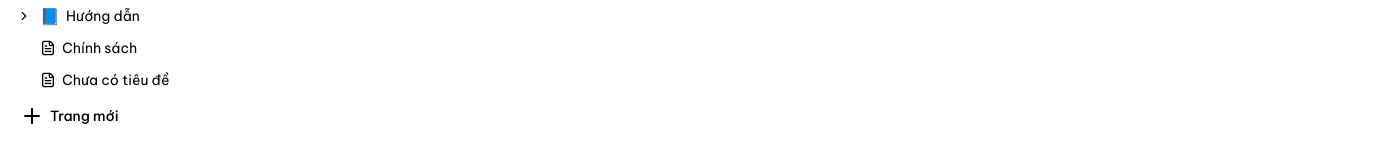
Scenario: PageTree › renames inline with F2 and cancels with Escape
Expected: the list is shown, [17,6,170,89]
Press F2
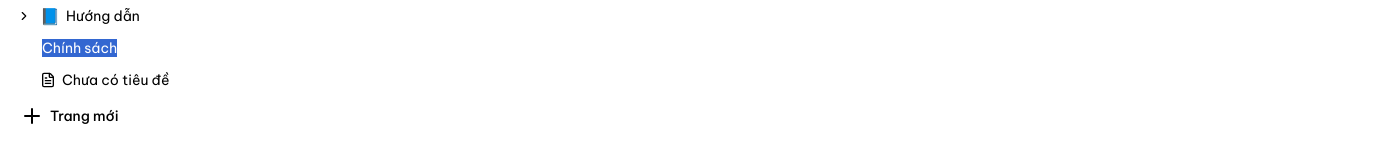
Replace the text in the field named "Tên trang" with "Quy định" at (705,48), box [36,34,1374,62]
Then press Enter
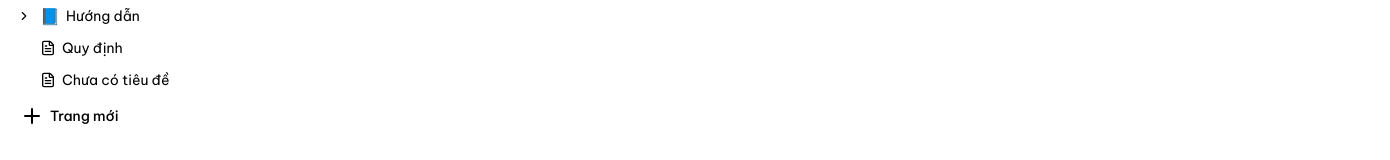
Now the list item "Quy định" has attribute href="/s/design/p/quy-dinh-p0000004", box [40,39,123,57]
Press F2
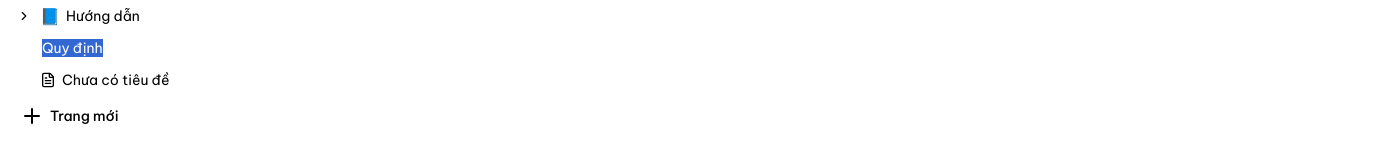
Type "xx" into the field named "Tên trang".
click(705, 48); type("xx")  # box [36,34,1374,62]
Then press Escape
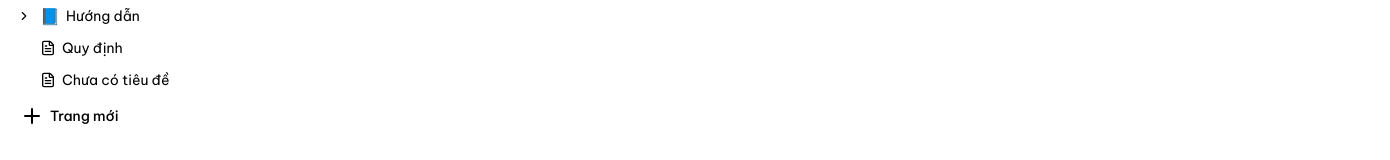
Now the list item "Quy định" is shown, box [40,39,123,57]
Now the text "Quy định" is shown, box [62,38,123,58]
